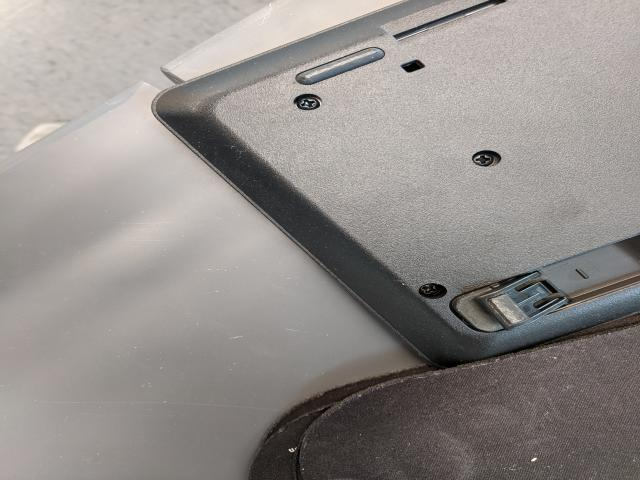CRS: (470, 152, 494, 166), (296, 97, 322, 109), (418, 283, 440, 296)
